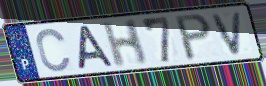7: (139, 15, 173, 65)
A: (77, 24, 116, 71)
C: (35, 26, 73, 74)
H: (100, 18, 150, 70)
P: (173, 12, 213, 63)
V: (210, 10, 244, 57)
